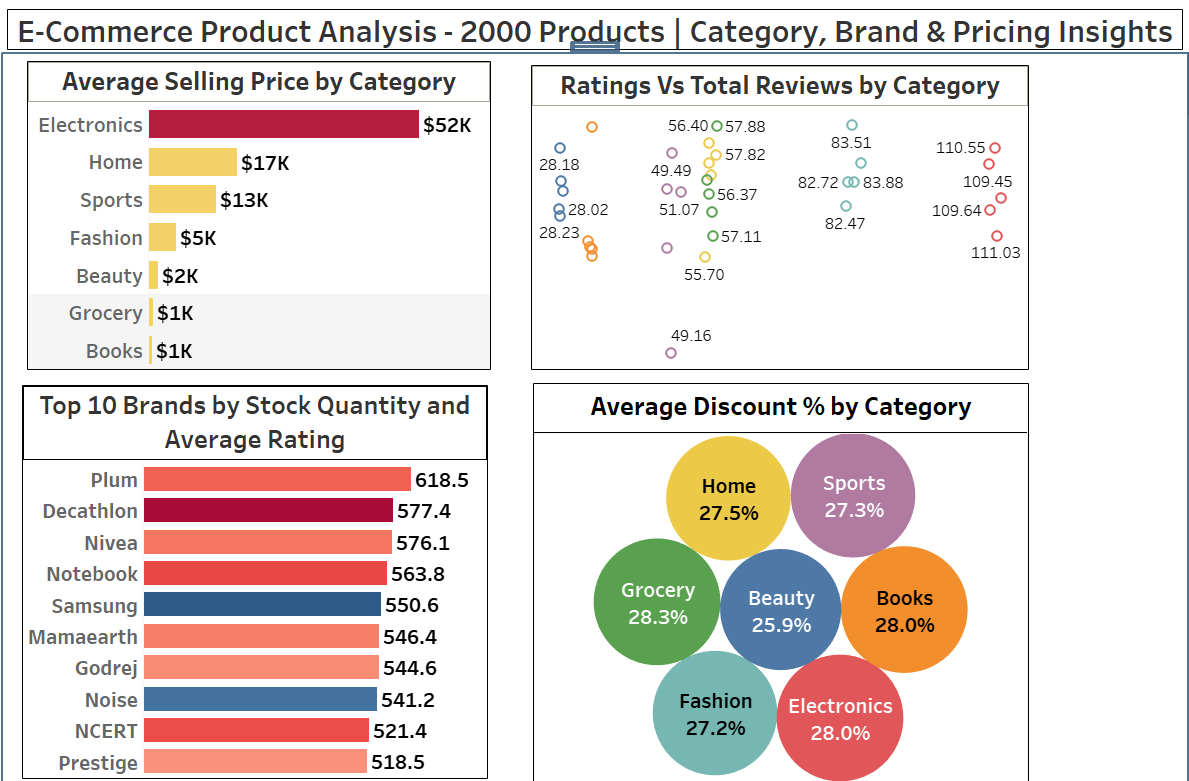

Layout of this report page (visuals, bound fields, positions):
{"tool":"tableau","page":{"name":"Dashboard1","canvas":[1200,800],"ordinal":0},"visuals":[{"type":"title","box":[8,8,1184,49]},{"type":"worksheet","title":"Average Selling Price by Category","mark":"Automatic","rows":["Category"],"cols":["Selling_Price"],"box":[32,64,464,309]},{"type":"worksheet","title":"Ratings Vs Total Reviews by Category","mark":"Automatic","rows":["Avg_Rating"],"cols":["Total_Reviews"],"box":[536,68,498,305]},{"type":"worksheet","title":"Average Discount % by Category","mark":"Circle","box":[538,386,496,400]},{"type":"worksheet","title":"Top 10 Brands by Stock Quantity and Average Rating","mark":"Automatic","rows":["Brand"],"cols":["Stock_Quantity"],"box":[27,388,466,394]}]}

Visuals, with their boxes in screenshot pixels (x1, y1, x2, y2), scaled from the page's 1200x800 canvas onto the 1189x781 screenshot:
title: 8:8:1181:56
"Average Selling Price by Category" worksheet: 32:62:491:364
"Ratings Vs Total Reviews by Category" worksheet: 531:66:1025:364
"Average Discount % by Category" worksheet (Circle marks): 533:377:1025:767
"Top 10 Brands by Stock Quantity and Average Rating" worksheet: 27:379:488:763
